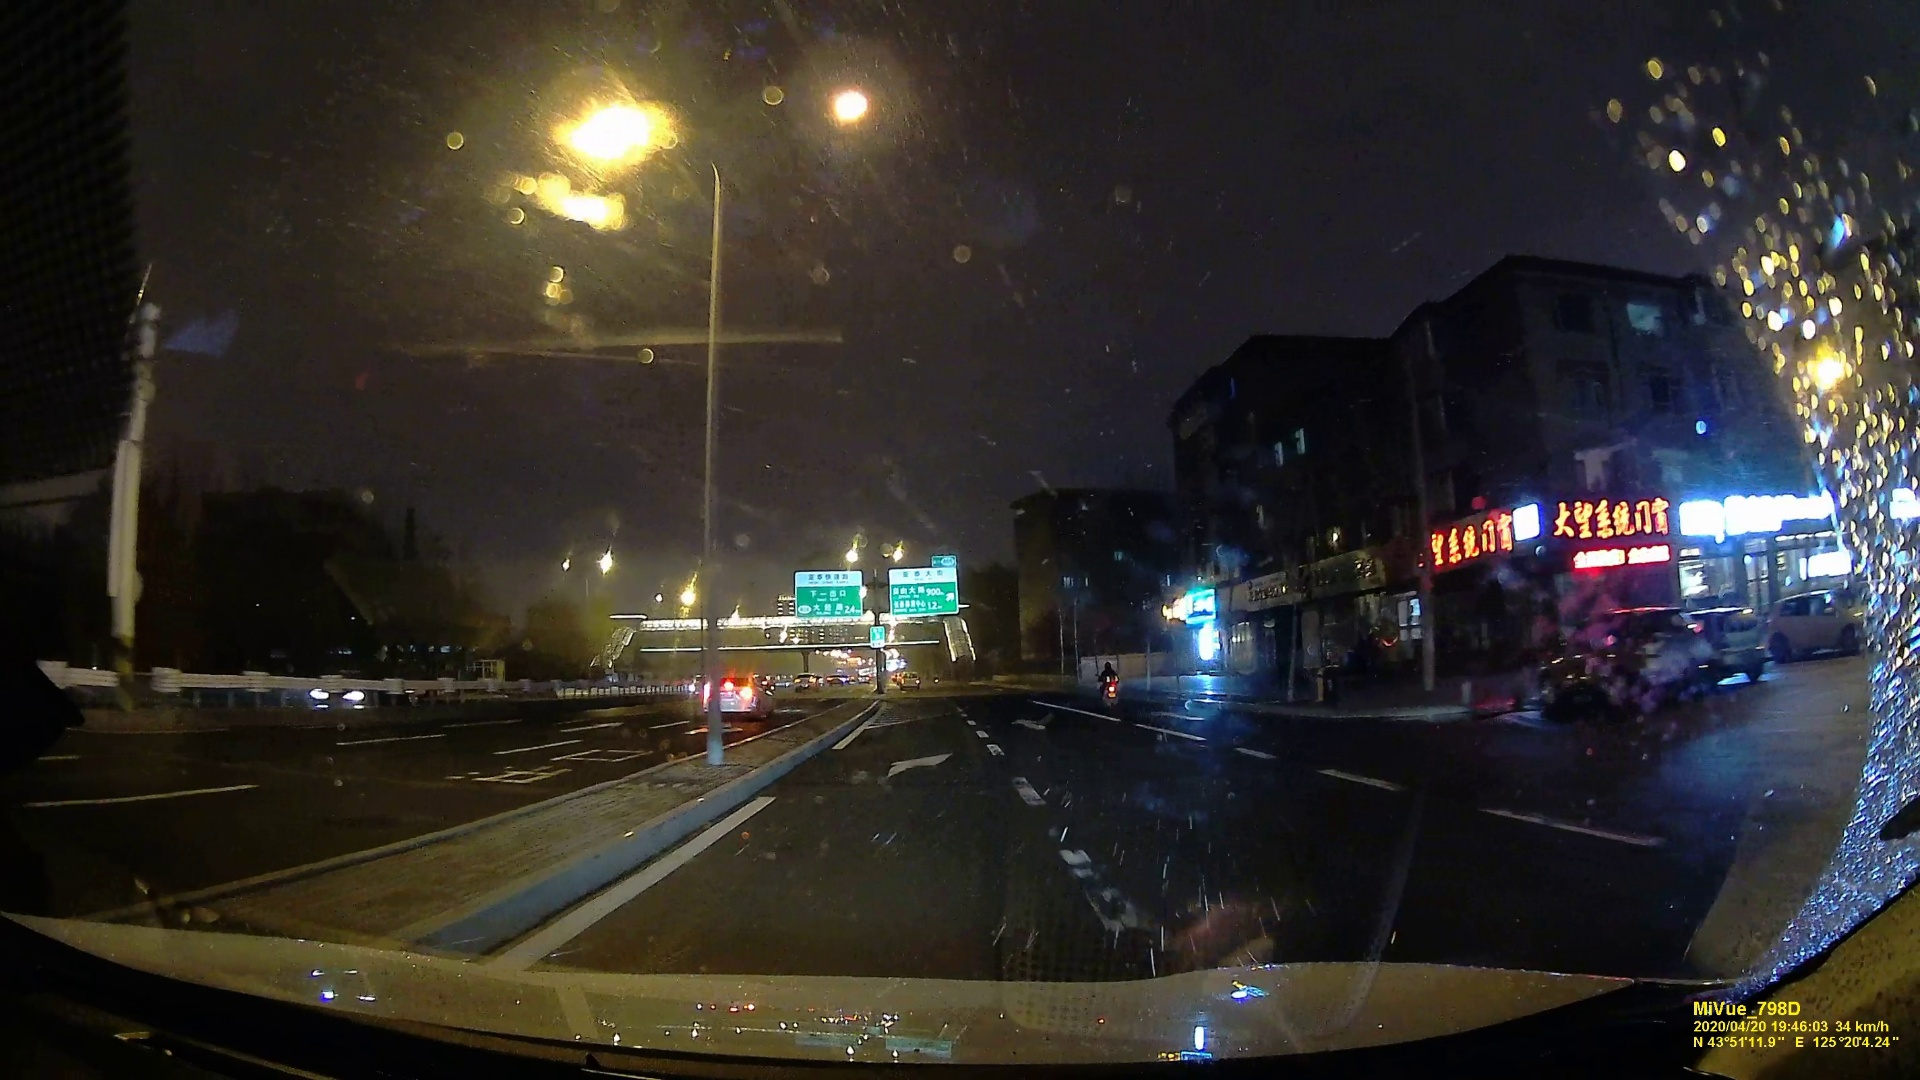person: (1098, 660, 1117, 687)
traffic_sign: (888, 567, 958, 615), (795, 570, 862, 619), (870, 626, 885, 646)
vehicle: (702, 674, 774, 719), (794, 673, 818, 693), (900, 672, 920, 691)
